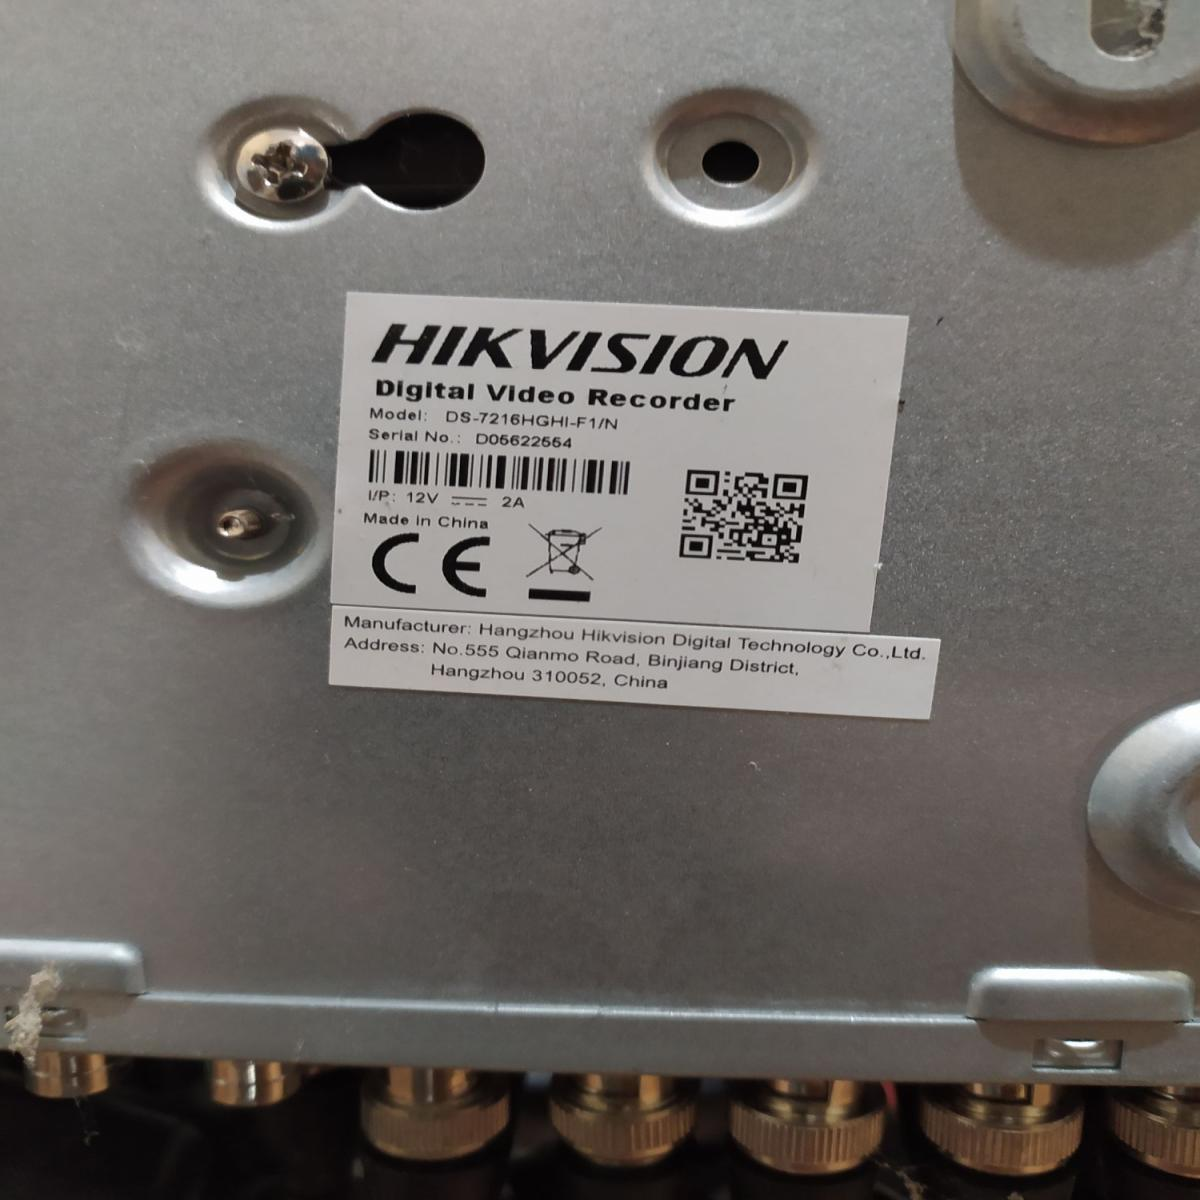Barcode: (364, 444, 640, 502)
Label: (346, 295, 901, 624)
